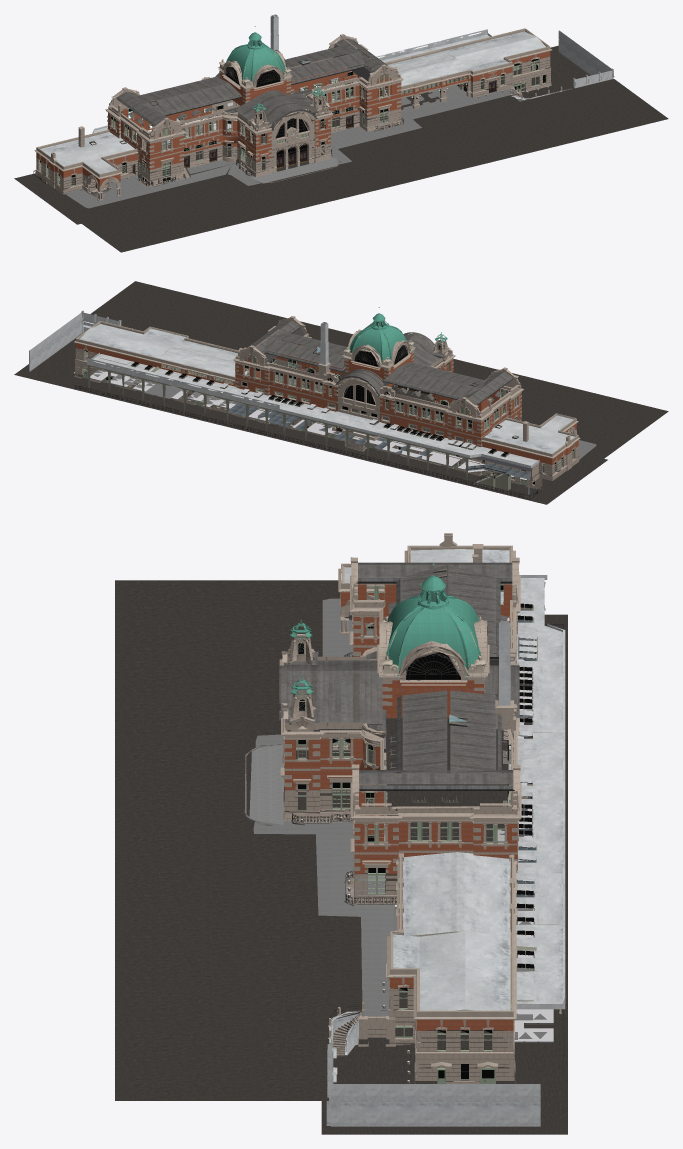
File: outside.glb
The picture shows the model from 3 angles, top to bottom: view 1: azimuth 30°, elevation 25°; view 2: azimuth 150°, elevation 25°; view 3: azimuth 270°, elevation 25°; orthographic projection. The views are drawn at different scales.
Visible parts, largest first — view 1: Object_48, Object_32, Object_45, Object_57, Object_60, Object_18, Object_51, Object_52, Object_66, Object_62, Object_59, Object_40 (+8 smaller); view 2: Object_48, Object_45, Object_57, Object_32, Object_60, Object_51, Object_17, Object_52, Object_21, Object_66, Object_69, Object_53 (+10 smaller); view 3: Object_48, Object_45, Object_57, Object_32, Object_60, Object_18, Object_51, Object_62, Object_66, Object_52, Object_59, Object_50 (+7 smaller).
Part boxes in pixels (left/top/right/bottom): Object_48: left=14, top=45, right=668, bottom=252; Object_32: left=35, top=34, right=551, bottom=194; Object_45: left=40, top=14, right=614, bottom=174; Object_57: left=116, top=38, right=387, bottom=131; Object_60: left=36, top=51, right=550, bottom=186; Object_18: left=64, top=80, right=517, bottom=208; Object_51: left=34, top=28, right=552, bottom=201; Object_52: left=109, top=40, right=562, bottom=178; Object_66: left=105, top=48, right=403, bottom=159; Object_62: left=225, top=26, right=325, bottom=111; Object_59: left=108, top=44, right=400, bottom=139; Object_40: left=111, top=64, right=545, bottom=181; Object_48: left=14, top=281, right=668, bottom=504; Object_45: left=29, top=310, right=574, bottom=468; Object_57: left=247, top=320, right=513, bottom=405; Object_32: left=75, top=316, right=579, bottom=489; Object_60: left=75, top=339, right=578, bottom=464; Object_51: left=74, top=321, right=580, bottom=461; Object_17: left=88, top=340, right=510, bottom=490; Object_52: left=132, top=322, right=521, bottom=436; Object_21: left=90, top=371, right=574, bottom=479; Object_66: left=233, top=329, right=523, bottom=438; Object_69: left=226, top=403, right=530, bottom=479; Object_53: left=235, top=367, right=521, bottom=433; Object_48: left=115, top=580, right=567, bottom=1134; Object_45: left=326, top=549, right=565, bottom=1126; Object_57: left=279, top=562, right=519, bottom=801; Object_32: left=281, top=544, right=532, bottom=1083; Object_60: left=284, top=554, right=517, bottom=1030; Object_18: left=253, top=598, right=546, bottom=1039; Object_51: left=280, top=533, right=518, bottom=1069; Object_62: left=290, top=563, right=480, bottom=695; Object_66: left=279, top=575, right=521, bottom=854; Object_52: left=279, top=554, right=517, bottom=1043; Object_59: left=318, top=598, right=517, bottom=815; Object_50: left=249, top=744, right=283, bottom=824.
Bounding box in the file's own units: 167 × 36.74 × 60.54.
42 materials, 38 textured.
